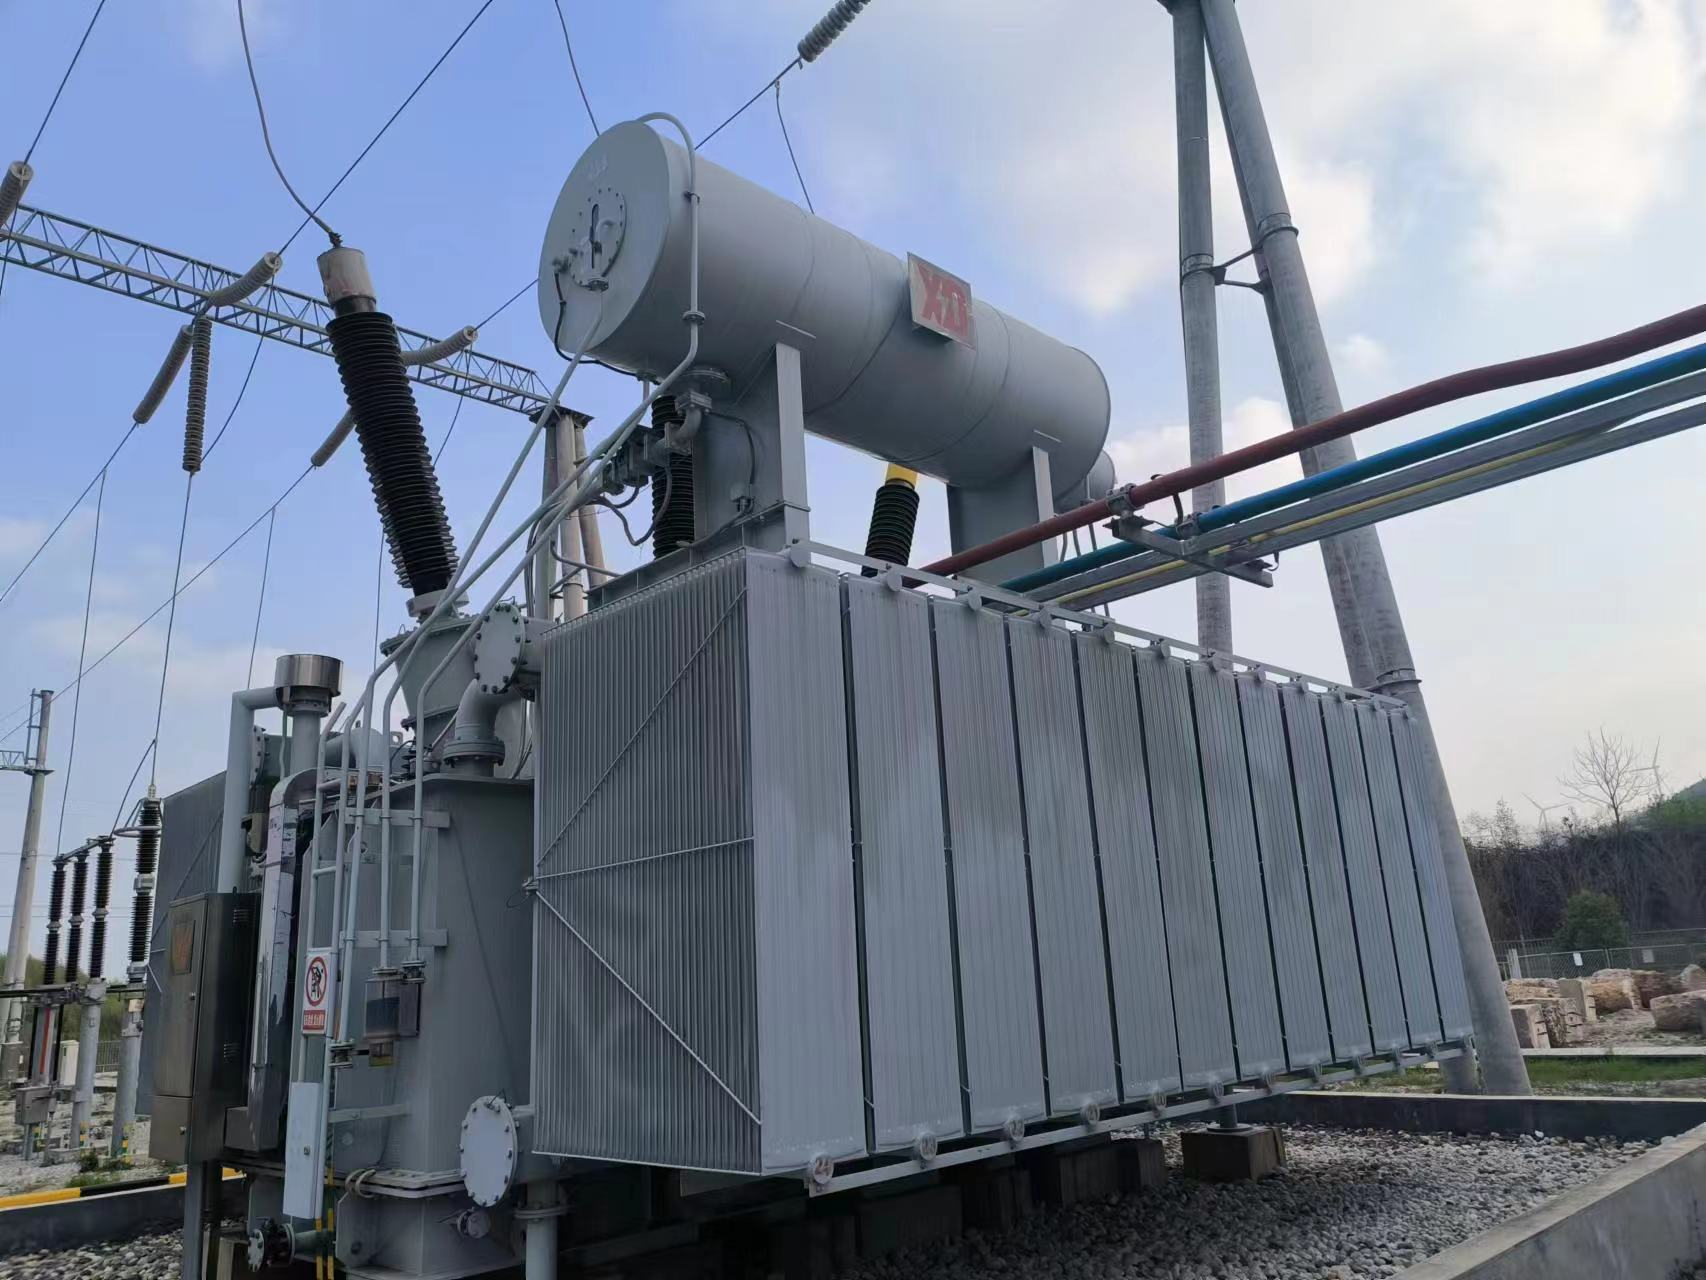Conservator: (527, 112, 1117, 590)
